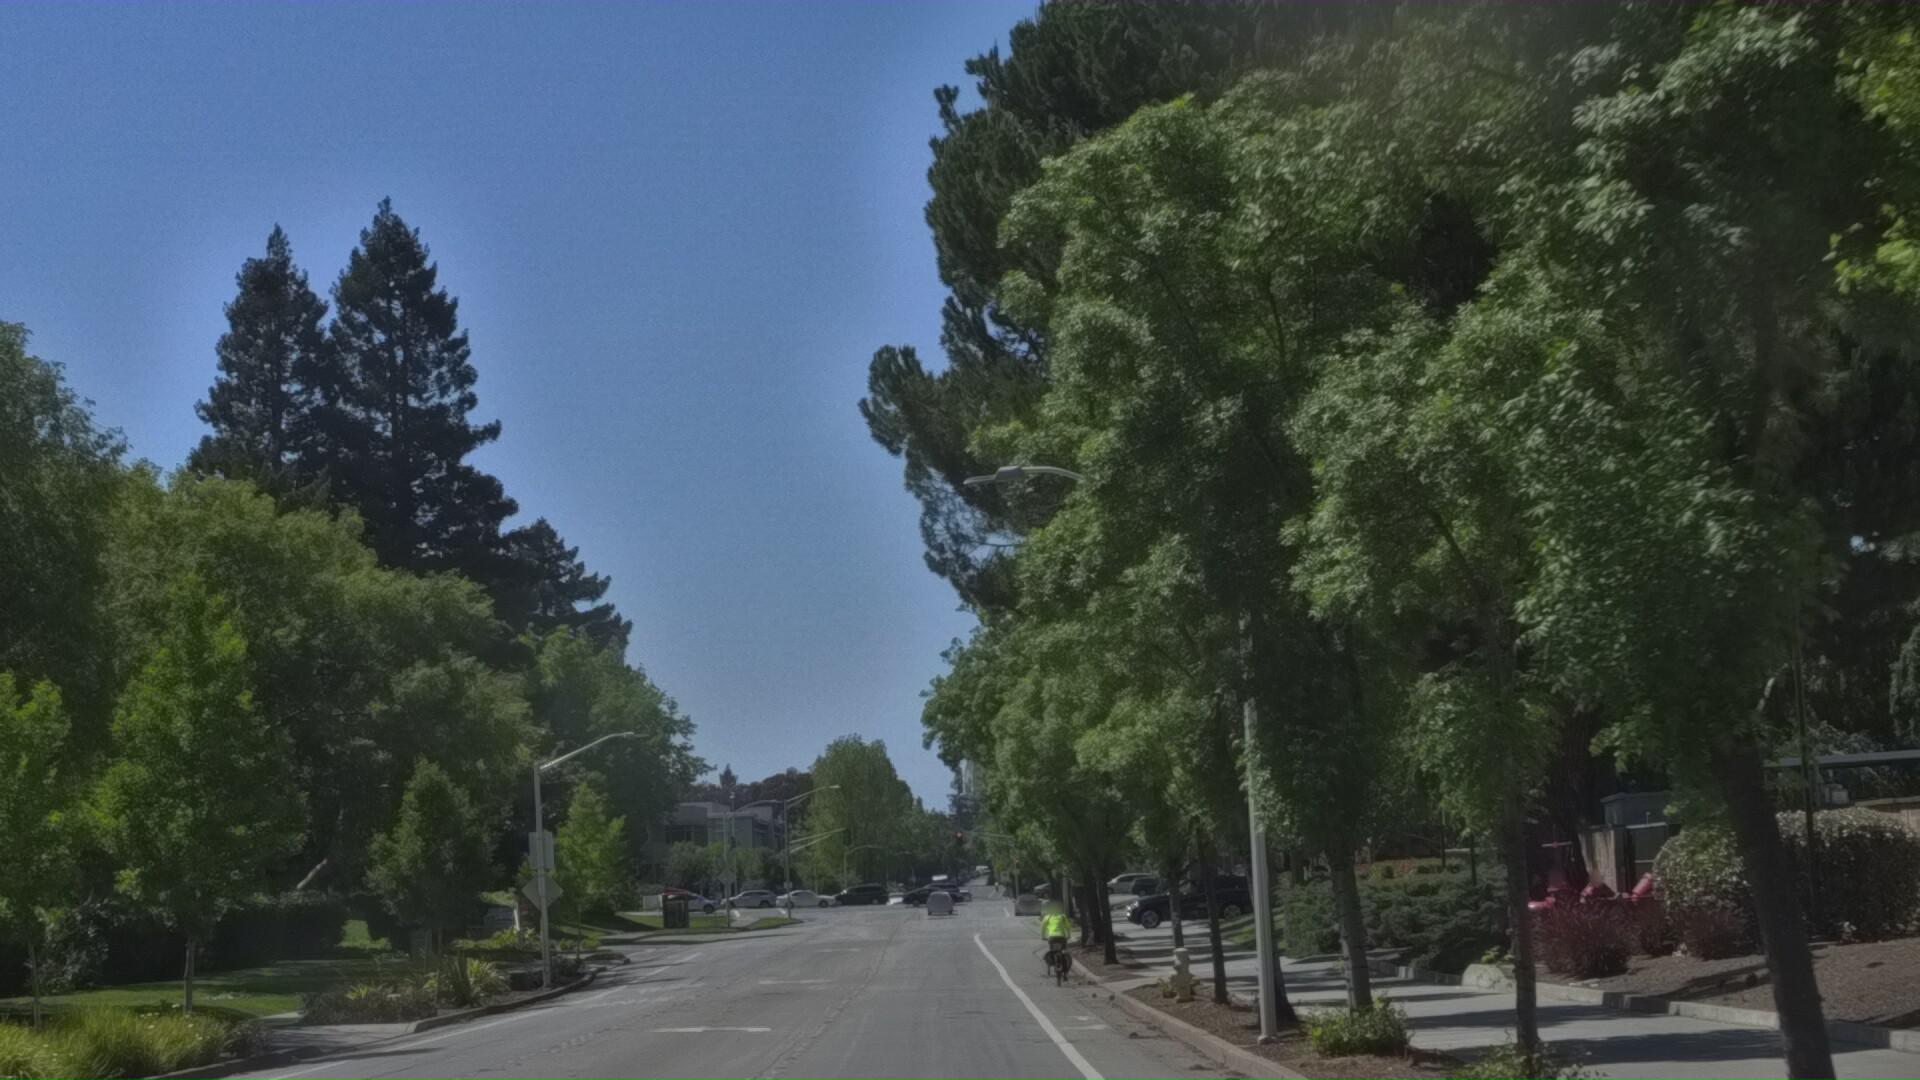bicycle: (1043, 894, 1102, 1000)
